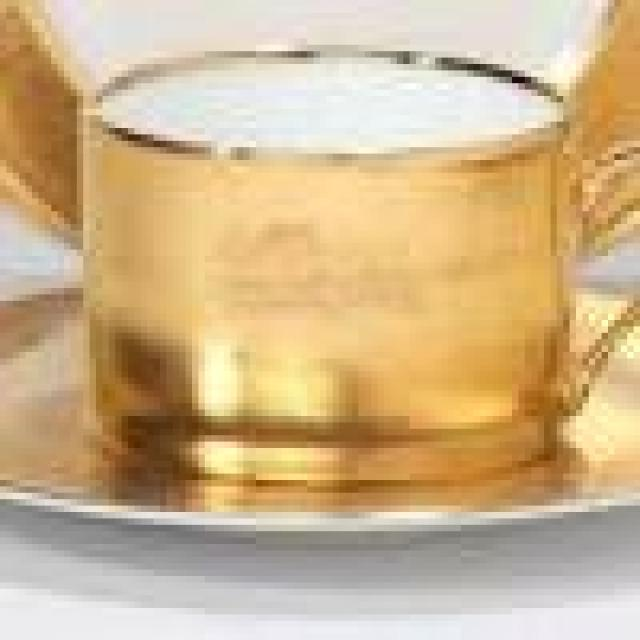taza: (45, 24, 640, 523)
